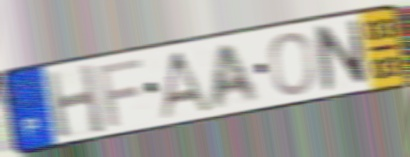A: (156, 48, 216, 122), (210, 40, 263, 112)
F: (94, 56, 145, 129)
H: (43, 61, 108, 141)
N: (312, 16, 370, 93)
O: (267, 30, 319, 97)
